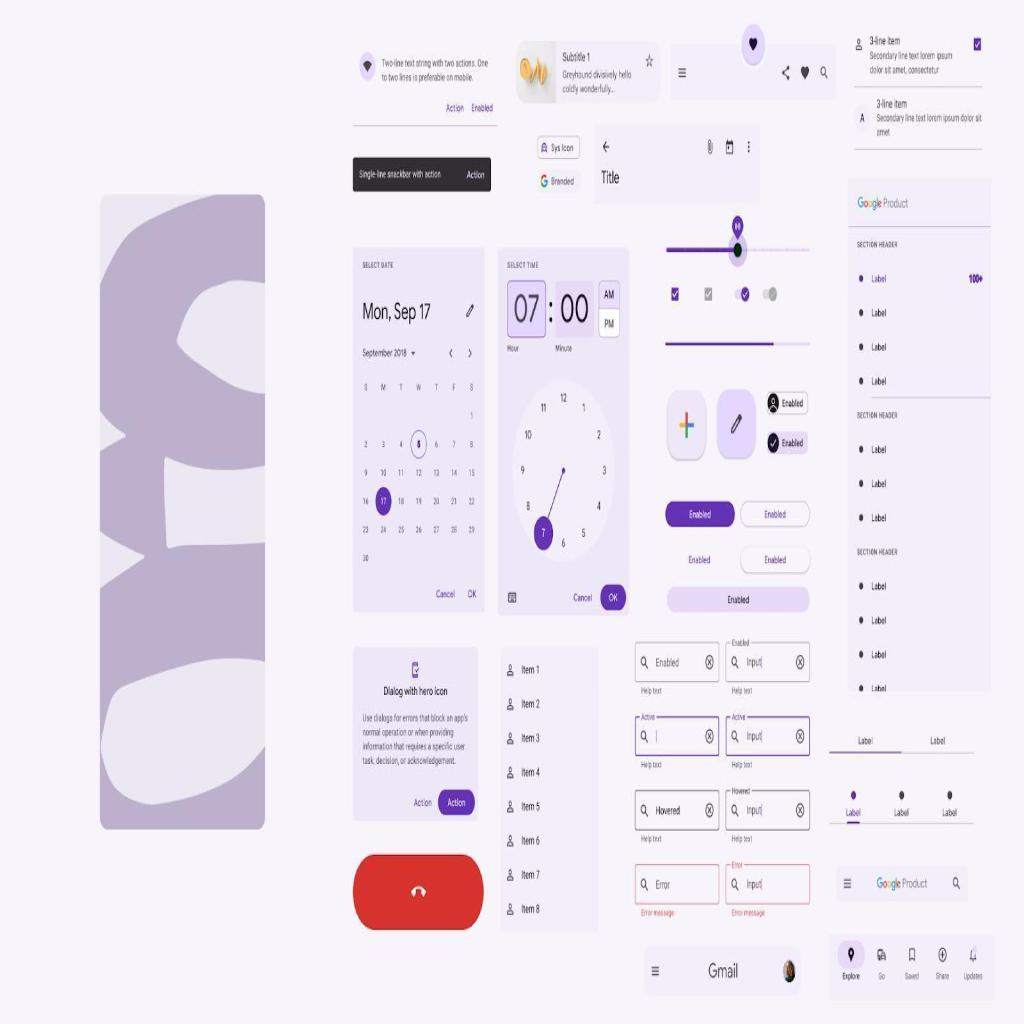button: (353, 852, 484, 930), (353, 158, 491, 193), (668, 588, 810, 612), (740, 501, 810, 528), (741, 547, 812, 573), (666, 502, 734, 528), (536, 168, 581, 192), (768, 390, 808, 416), (437, 789, 475, 816), (767, 430, 808, 454), (538, 135, 579, 158), (600, 584, 626, 613)
checkbox: (671, 286, 679, 302), (705, 287, 712, 302), (974, 38, 982, 51)
icon: (876, 946, 888, 965), (504, 832, 516, 849), (938, 946, 948, 964), (969, 946, 979, 964), (748, 38, 760, 52), (651, 963, 660, 981), (951, 875, 961, 891), (505, 868, 515, 884), (506, 731, 515, 748), (847, 946, 855, 964), (854, 38, 864, 52), (908, 947, 916, 964), (506, 764, 514, 781), (505, 698, 514, 713), (506, 799, 514, 815), (506, 664, 514, 678), (843, 878, 852, 890), (506, 902, 515, 914)
input: (636, 790, 720, 830), (726, 864, 810, 904), (636, 643, 720, 682), (726, 642, 810, 681), (635, 716, 719, 755), (726, 791, 810, 830), (635, 865, 719, 904), (726, 718, 810, 756)
label: (876, 873, 928, 892), (706, 958, 739, 983), (868, 33, 902, 50), (600, 164, 623, 188), (520, 900, 541, 918), (521, 832, 542, 849), (520, 798, 542, 814), (471, 101, 495, 115), (412, 794, 432, 810), (521, 764, 541, 780), (520, 731, 541, 746), (435, 588, 457, 602), (444, 101, 464, 116), (521, 696, 540, 711), (520, 867, 540, 881), (521, 664, 541, 677), (572, 593, 593, 604), (842, 971, 862, 982), (963, 971, 983, 982), (724, 138, 736, 156), (706, 136, 715, 157), (781, 63, 790, 83), (800, 64, 810, 82), (904, 971, 920, 982), (677, 64, 687, 80), (934, 971, 950, 981), (820, 64, 829, 80), (602, 138, 610, 154), (466, 587, 476, 599), (746, 138, 752, 154), (877, 972, 886, 982)
switch: (762, 285, 777, 302), (736, 286, 750, 302)
